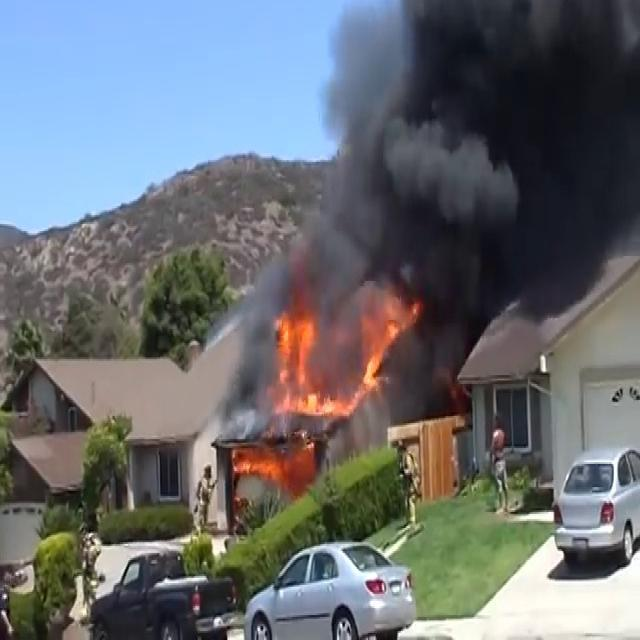Fire: (268, 296, 354, 421), (357, 285, 418, 392), (231, 444, 296, 482)
Smoke: (250, 0, 640, 380)
